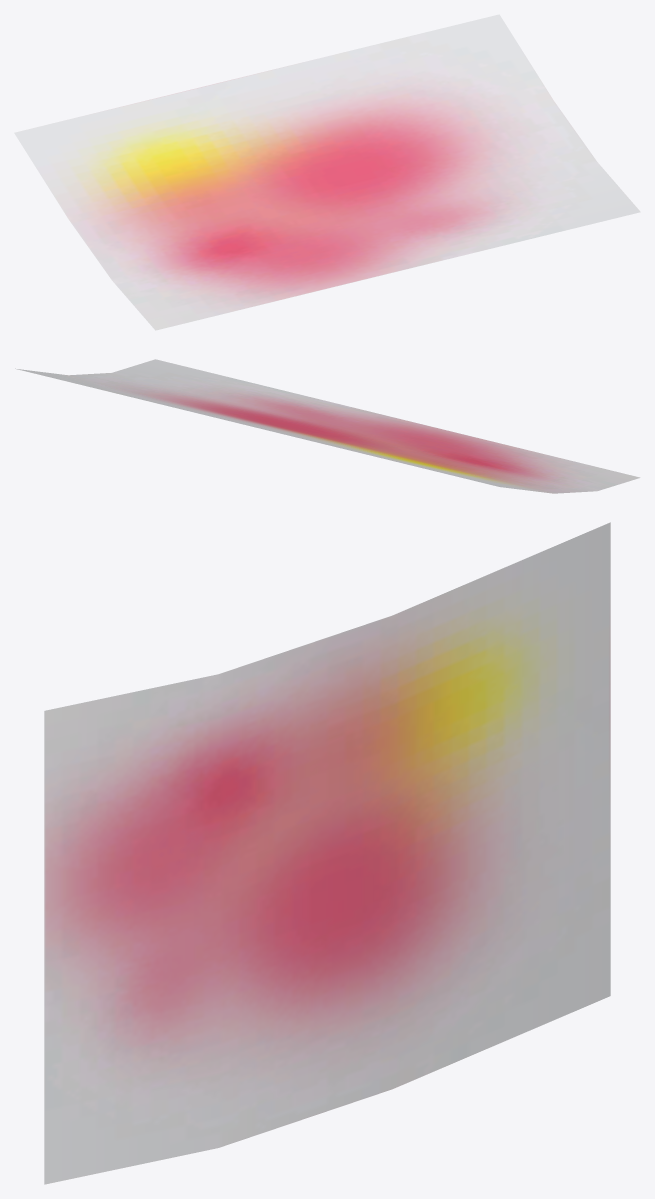
3 renders of one model, top to bottom at view 1: azimuth 30°, elevation 25°; view 2: azimuth 150°, elevation 25°; view 3: azimuth 270°, elevation 25°, orthographic. The views are drawn at different scales.
Visible parts, largest first — view 1: Joint_0_Object_0; view 2: Joint_0_Object_0; view 3: Joint_0_Object_0.
Boxes of the visible parts, bbox=[...] form: Joint_0_Object_0: bbox=[14, 14, 640, 330]; Joint_0_Object_0: bbox=[15, 359, 640, 493]; Joint_0_Object_0: bbox=[44, 522, 610, 1184].
Bounding box in the file's own units: 3000 × 557 × 1515.
1 material, 1 textured.
